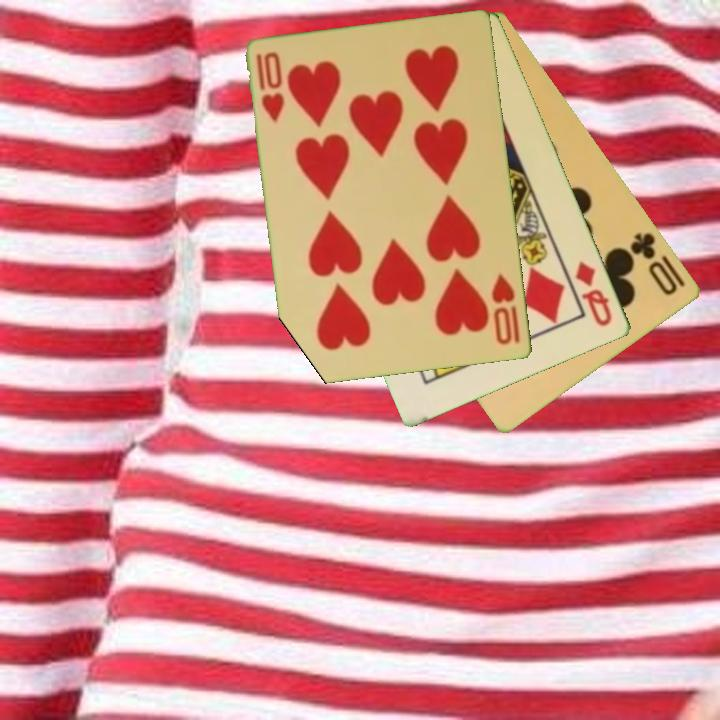10c: (627, 228, 689, 299)
10h: (488, 270, 524, 348), (253, 49, 288, 126)
Qd: (572, 258, 616, 330)
